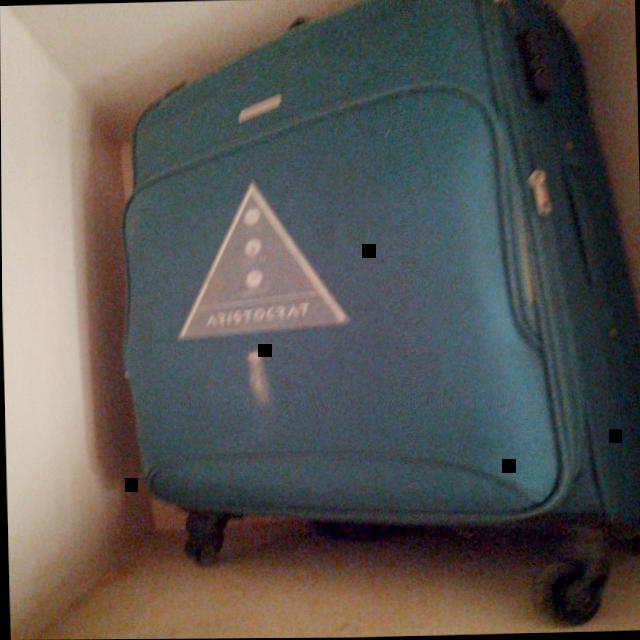luggage: (121, 0, 640, 564)
